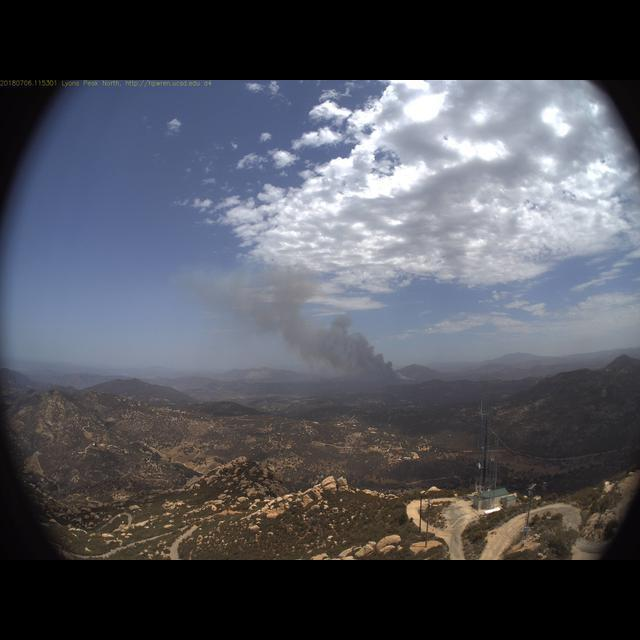Smoke: (174, 252, 420, 389)
